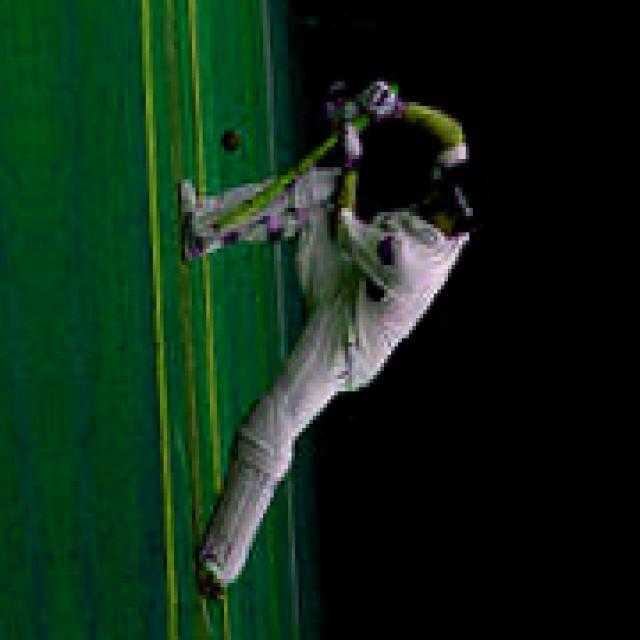bat: (198, 90, 354, 238)
